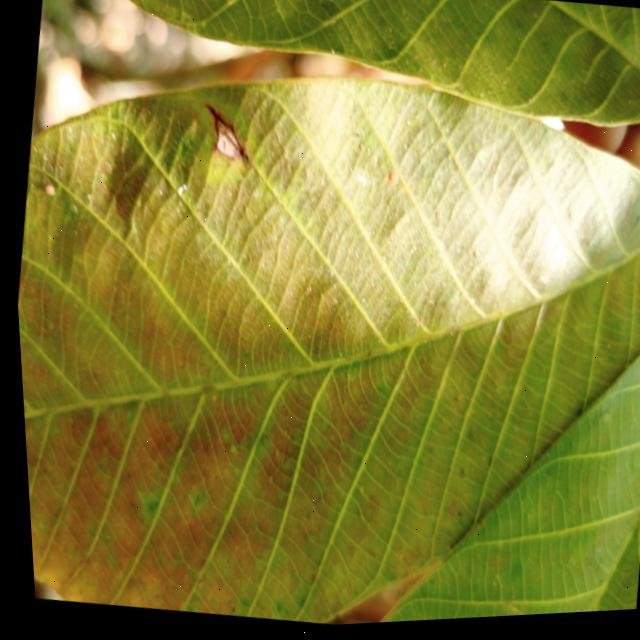Corynespora: (194, 103, 260, 175)
Leaf-Blight: (210, 123, 239, 159)
